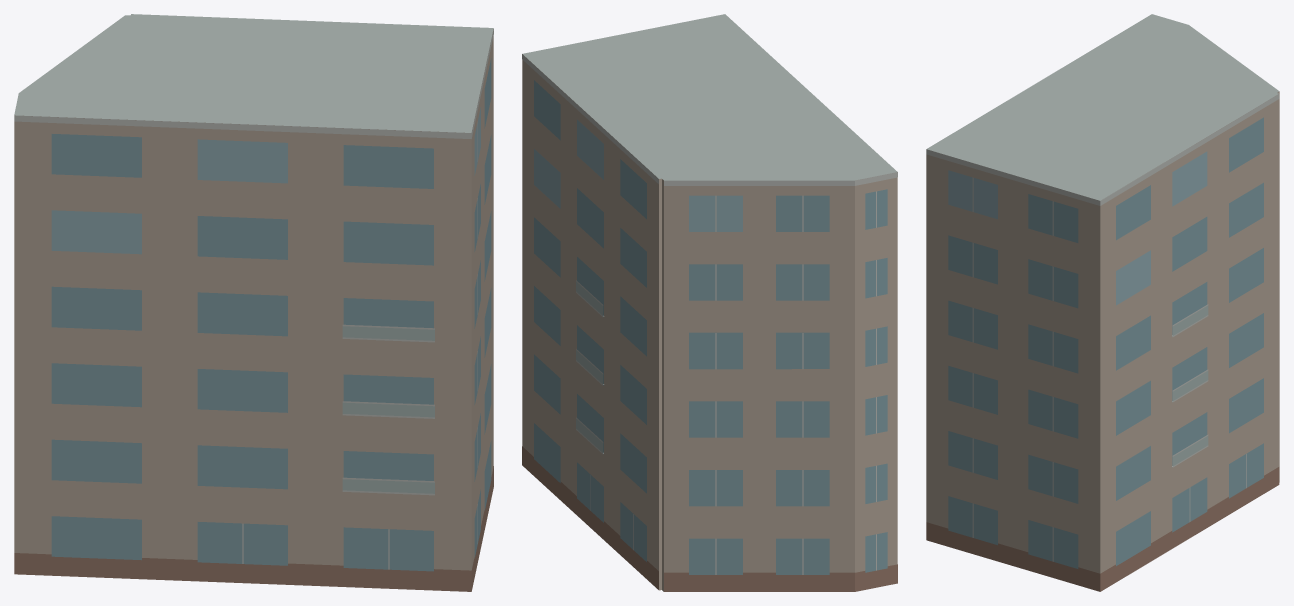
The model's file is survey-upis-32914984.glb.
The picture shows the model from 3 angles, left to right: view 1: azimuth 30°, elevation 25°; view 2: azimuth 150°, elevation 25°; view 3: azimuth 270°, elevation 25°; orthographic projection. The views are drawn at different scales.
Parts seen in each view (by area): view 1: survey-upis-32914984.tmp; view 2: survey-upis-32914984.tmp; view 3: survey-upis-32914984.tmp.
Part boxes in pixels (<box>): survey-upis-32914984.tmp: <box>14,14,493,591</box>; survey-upis-32914984.tmp: <box>522,14,897,591</box>; survey-upis-32914984.tmp: <box>926,14,1279,591</box>.
Bounding box in the file's own units: 18.76 × 18.3 × 15.
